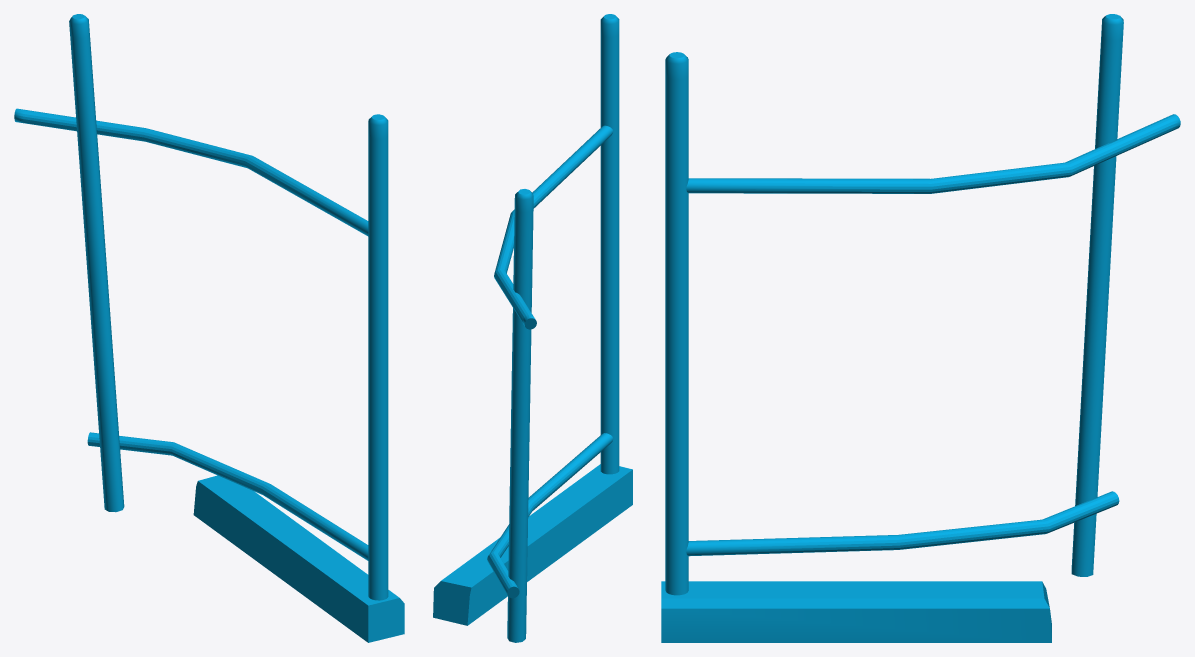
The model's file is Fence_03_Break_Lod0.fbx.
3 views of the same model, side by side, from view 1: azimuth 30°, elevation 25°; view 2: azimuth 150°, elevation 25°; view 3: azimuth 270°, elevation 25° (orthographic). The views are drawn at different scales.
Visible parts, largest first — view 1: Fence_03_Break_Lod0; view 2: Fence_03_Break_Lod0; view 3: Fence_03_Break_Lod0.
Part boxes in pixels (bbox=[...]): Fence_03_Break_Lod0: bbox=[14, 14, 404, 642]; Fence_03_Break_Lod0: bbox=[433, 14, 632, 642]; Fence_03_Break_Lod0: bbox=[661, 14, 1180, 642].
Size of the model in its own units: 119 by 362 by 295.
